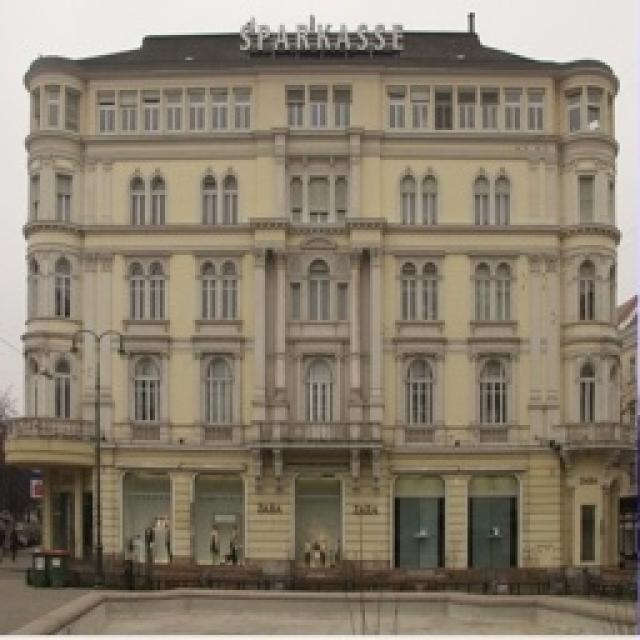building: (7, 12, 625, 600)
